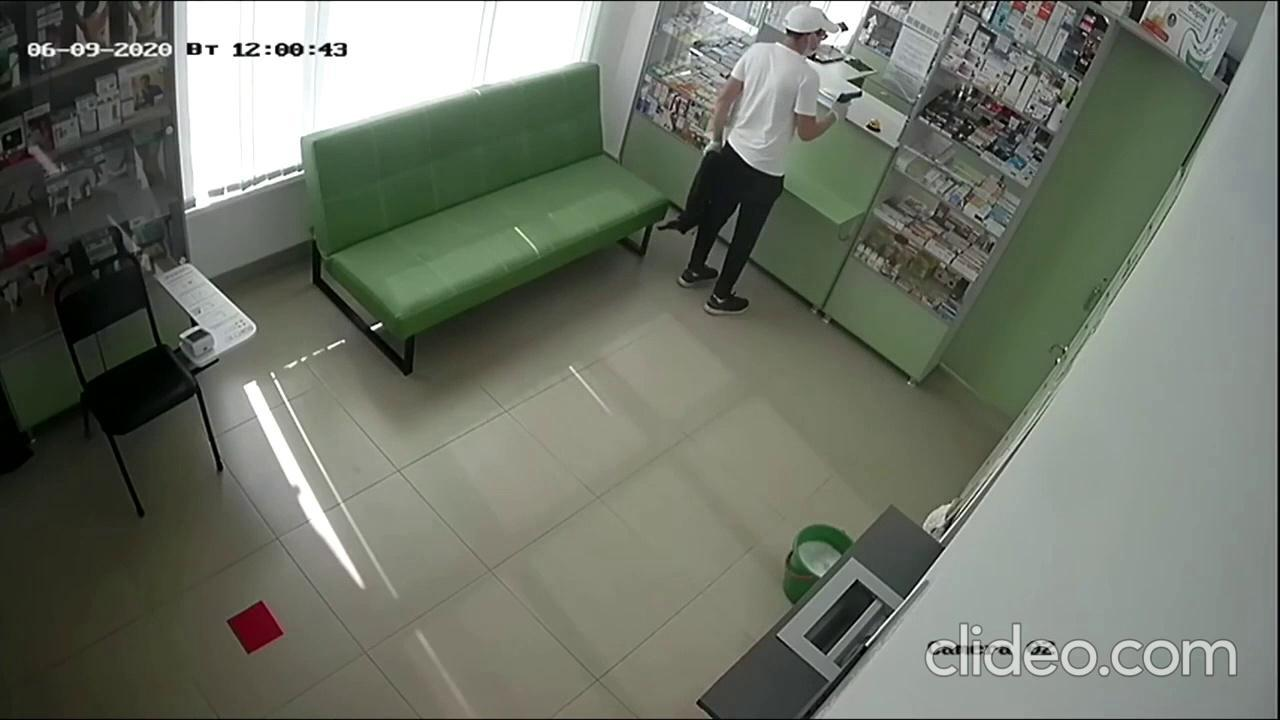person: (674, 3, 852, 318)
pistol: (835, 88, 864, 106)
